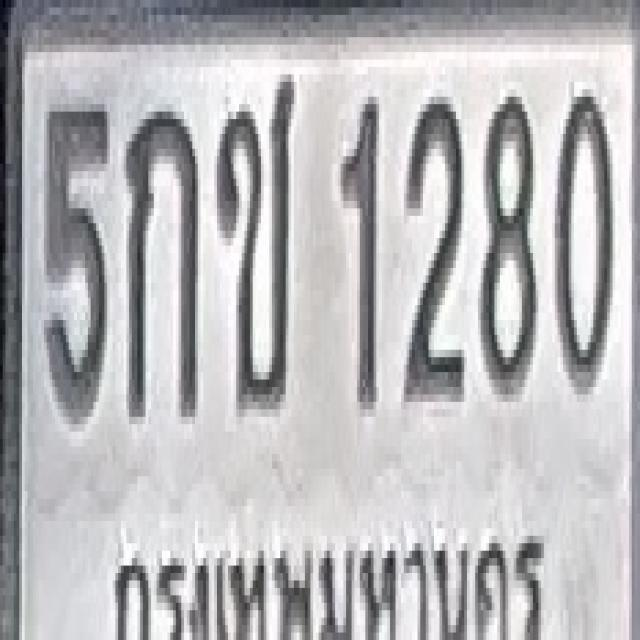0: (555, 86, 612, 390)
1: (339, 93, 378, 406)
2: (405, 93, 463, 398)
5: (46, 96, 108, 416)
8: (480, 90, 534, 394)
A01: (125, 104, 196, 417)
A10: (214, 74, 294, 410)
